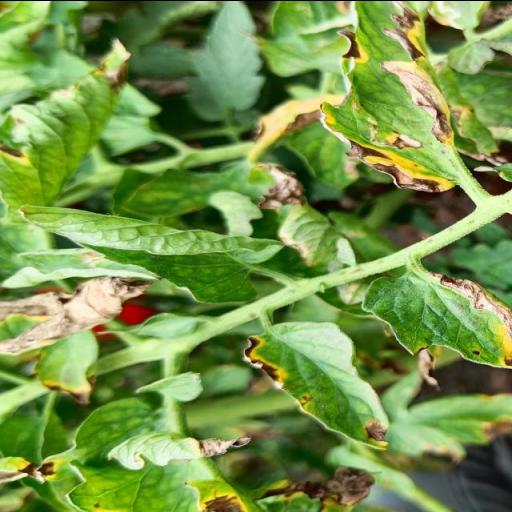disease_tomato: (317, 0, 467, 196), (238, 315, 394, 453), (359, 264, 512, 373)
